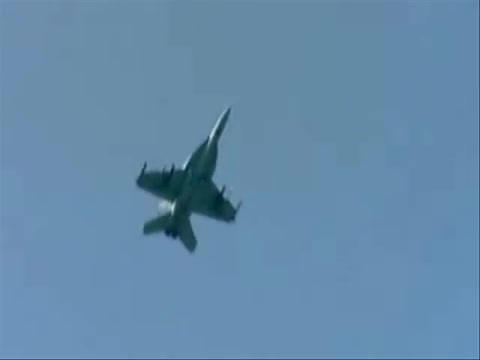aeroplane: (138, 107, 244, 254)
